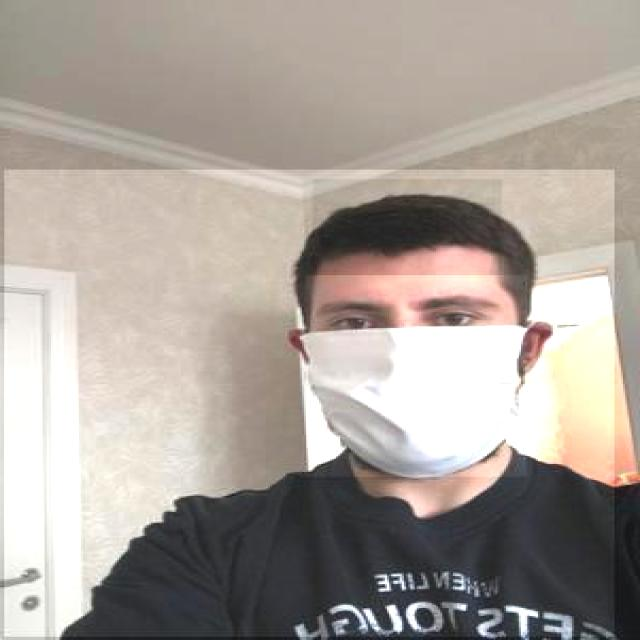face_mask: (306, 275, 527, 477)
head_nohelmet: (313, 179, 502, 275)
person: (2, 170, 615, 638)
